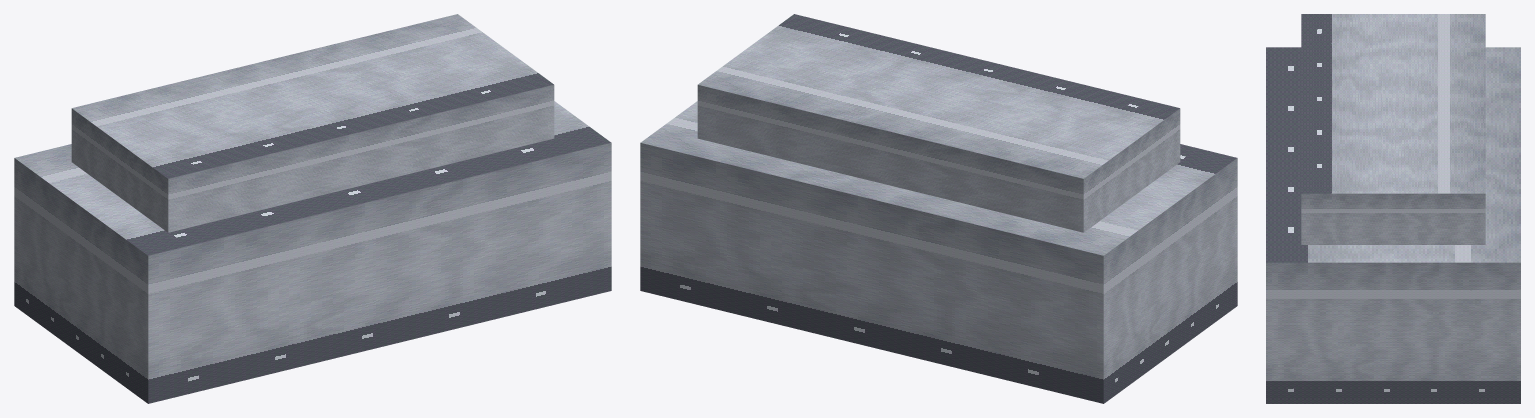
The model's file is lingote_de_ferro.glb.
3 views of the same model, side by side, from view 1: azimuth 30°, elevation 25°; view 2: azimuth 150°, elevation 25°; view 3: azimuth 270°, elevation 25° (orthographic). The views are drawn at different scales.
Visible parts, largest first — view 1: lingote_de_ferro; view 2: lingote_de_ferro; view 3: lingote_de_ferro.
Part boxes in pixels (x1,y1,x2,y2): lingote_de_ferro: [14, 14, 611, 403]; lingote_de_ferro: [640, 14, 1237, 403]; lingote_de_ferro: [1266, 14, 1520, 403].
Size of the model in its own units: 0.36 by 0.15 by 0.18.
Materials: 1 (1 with a texture image).
